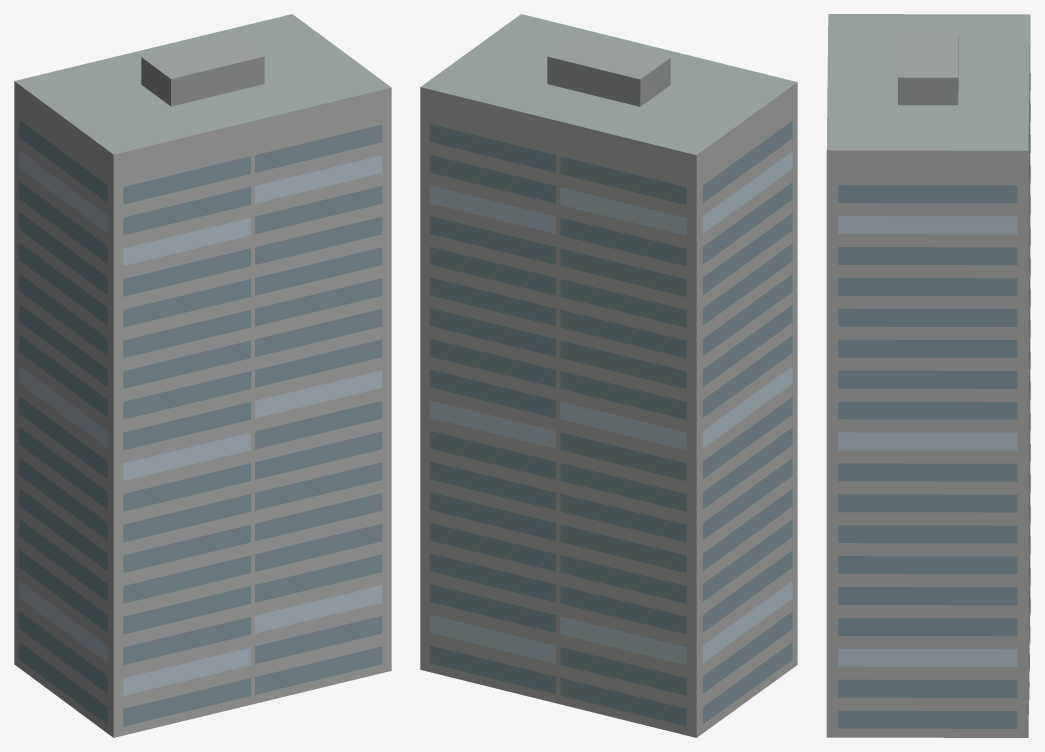
File: fallback-sk-bukhansan-city-107.glb
3 renders of one model, left to right at view 1: azimuth 30°, elevation 25°; view 2: azimuth 150°, elevation 25°; view 3: azimuth 270°, elevation 25°, orthographic.
Visible parts, largest first — view 1: fallback-sk-bukhansan-city-107; view 2: fallback-sk-bukhansan-city-107; view 3: fallback-sk-bukhansan-city-107.
Boxes of the visible parts, x1,y1,x2,y2 form: fallback-sk-bukhansan-city-107: (14, 14, 391, 737); fallback-sk-bukhansan-city-107: (420, 14, 797, 737); fallback-sk-bukhansan-city-107: (826, 14, 1030, 737).
Size of the model in its own units: 24.38 by 51 by 15.37.
